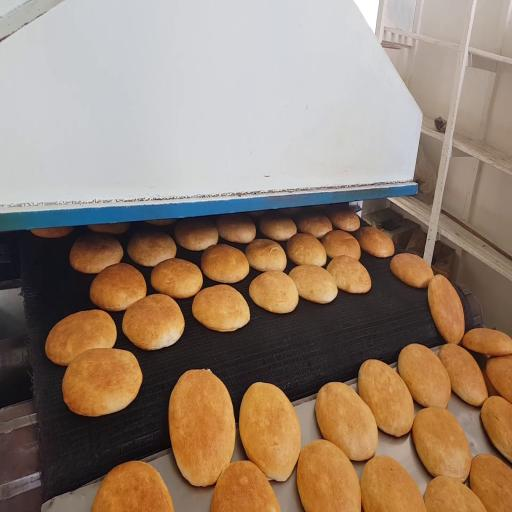bread: (169, 370, 235, 486), (239, 383, 301, 481), (62, 348, 142, 416), (315, 383, 377, 460), (297, 440, 361, 511), (412, 407, 471, 481), (358, 360, 414, 437), (91, 461, 173, 511), (46, 310, 116, 365), (361, 456, 426, 511), (210, 461, 280, 511), (123, 294, 184, 350), (398, 344, 451, 407), (439, 344, 487, 406), (192, 284, 250, 331), (90, 263, 146, 311), (428, 275, 464, 344), (470, 454, 511, 511), (70, 234, 123, 274), (425, 476, 485, 511), (249, 271, 298, 313), (151, 258, 202, 298), (481, 396, 511, 462), (201, 244, 249, 283), (289, 265, 337, 303), (128, 232, 176, 266), (327, 256, 371, 293), (390, 253, 433, 288), (175, 218, 218, 250), (463, 328, 511, 356), (245, 239, 286, 271), (287, 233, 326, 266), (486, 356, 511, 402), (216, 214, 255, 243), (357, 227, 394, 257), (322, 230, 360, 259), (260, 213, 297, 241), (327, 205, 360, 232), (298, 213, 332, 238), (31, 227, 73, 238), (88, 223, 129, 234), (276, 207, 307, 217), (146, 219, 175, 226), (248, 211, 267, 219)
